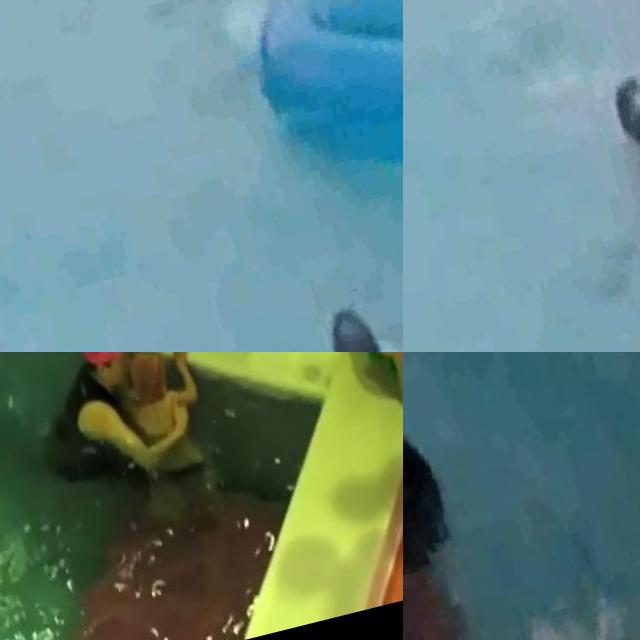drowning: (403, 429, 526, 640), (549, 0, 640, 281), (187, 0, 321, 60)
out of water: (318, 352, 403, 596)
swimming: (20, 352, 162, 494), (117, 352, 222, 475)
